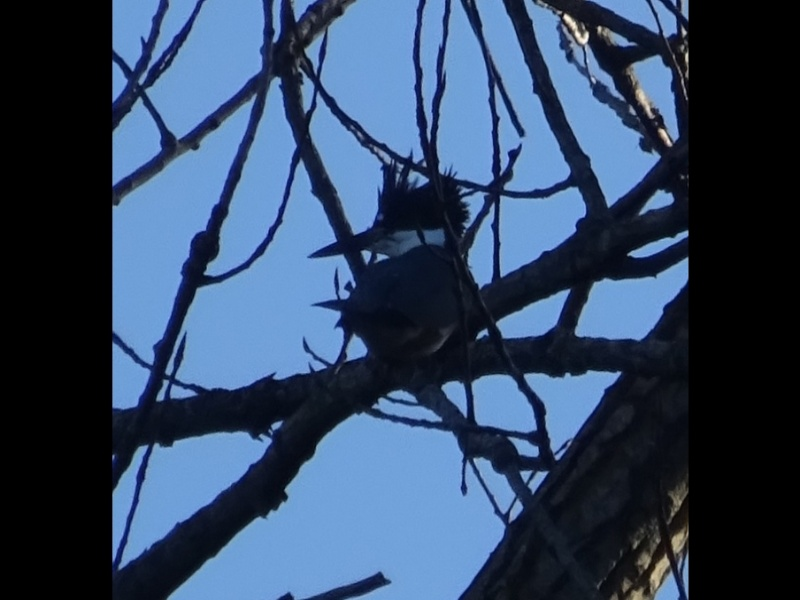kingfisher: (304, 154, 484, 378)
